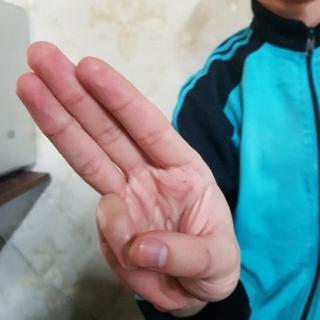THA: (13, 31, 244, 318)
